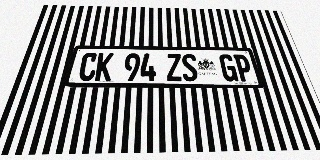4: (140, 53, 156, 81)
9: (123, 53, 140, 81)
C: (77, 53, 98, 81)
G: (219, 54, 239, 81)
K: (94, 53, 114, 81)
P: (233, 54, 254, 82)
S: (181, 54, 199, 81)
Z: (166, 54, 183, 81)
